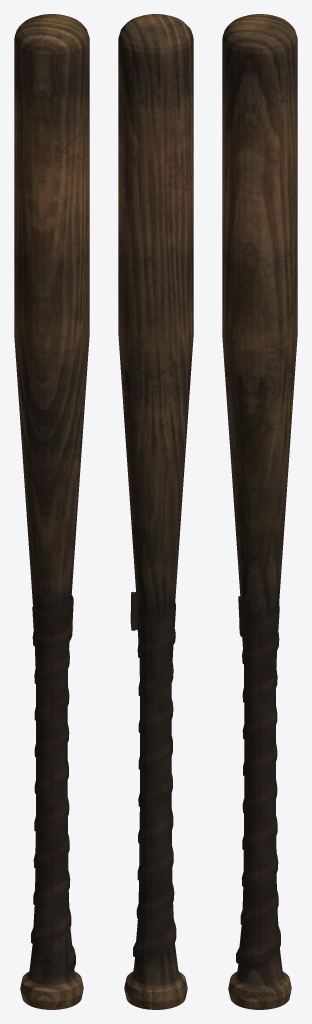
Rendered from BaseballBat.obj.
3 renders of one model, left to right at view 1: azimuth 90°, elevation 25°; view 2: azimuth 210°, elevation 25°; view 3: azimuth 270°, elevation 25°, orthographic.
Visible parts, largest first — view 1: Bolt_004; view 2: Bolt_004; view 3: Bolt_004.
Boxes of the visible parts, x1,y1,x2,y2 form: Bolt_004: (14,14,89,1009); Bolt_004: (118,14,193,1009); Bolt_004: (222,14,297,1009).
Size of the model in its own units: 0.0636 by 0.9132 by 0.0636.
1 material, 1 textured.
